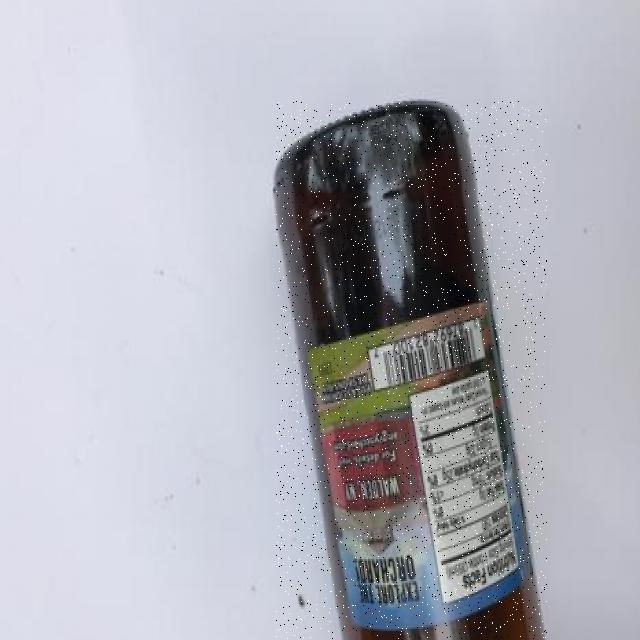glass: (276, 101, 547, 640)
